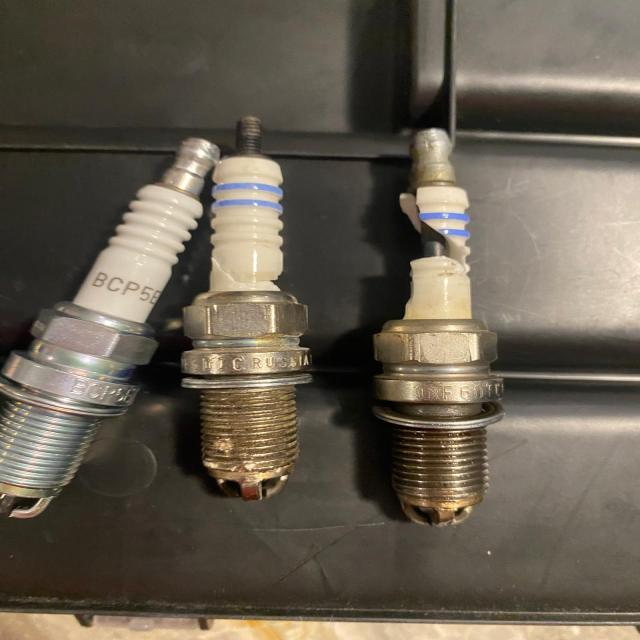damaged_spark-plug: (358, 117, 506, 541), (210, 112, 308, 512)
spark-plug: (0, 127, 243, 525)
